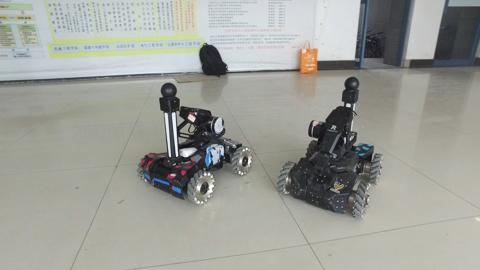chariot: (129, 79, 258, 216), (277, 69, 388, 226)
